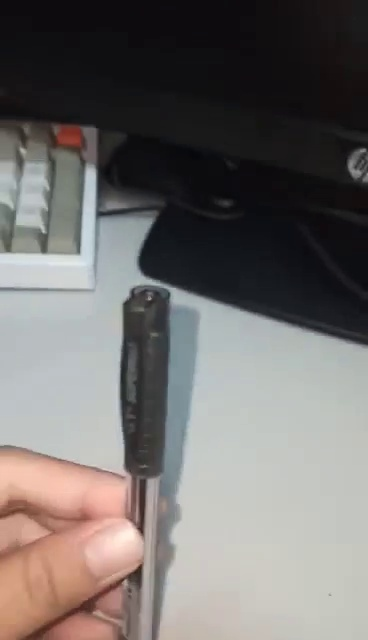ballpen: (116, 292, 177, 630)
hand: (1, 446, 144, 640)
